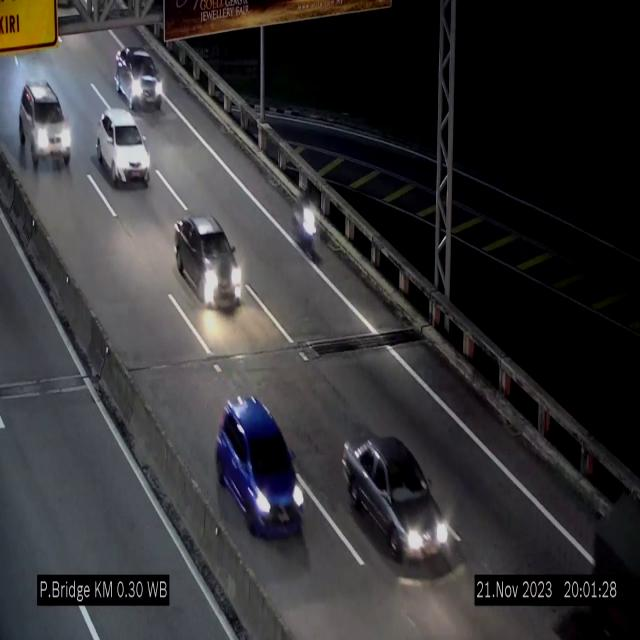Car: (342, 436, 458, 559), (216, 395, 304, 536), (178, 208, 245, 312), (20, 84, 71, 168), (97, 108, 151, 186), (115, 46, 163, 110)
Motorcycle: (294, 183, 318, 263)
